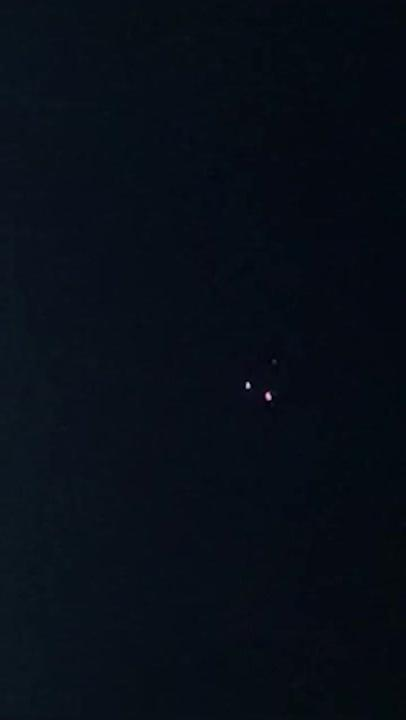Plane: (230, 376, 288, 415)
